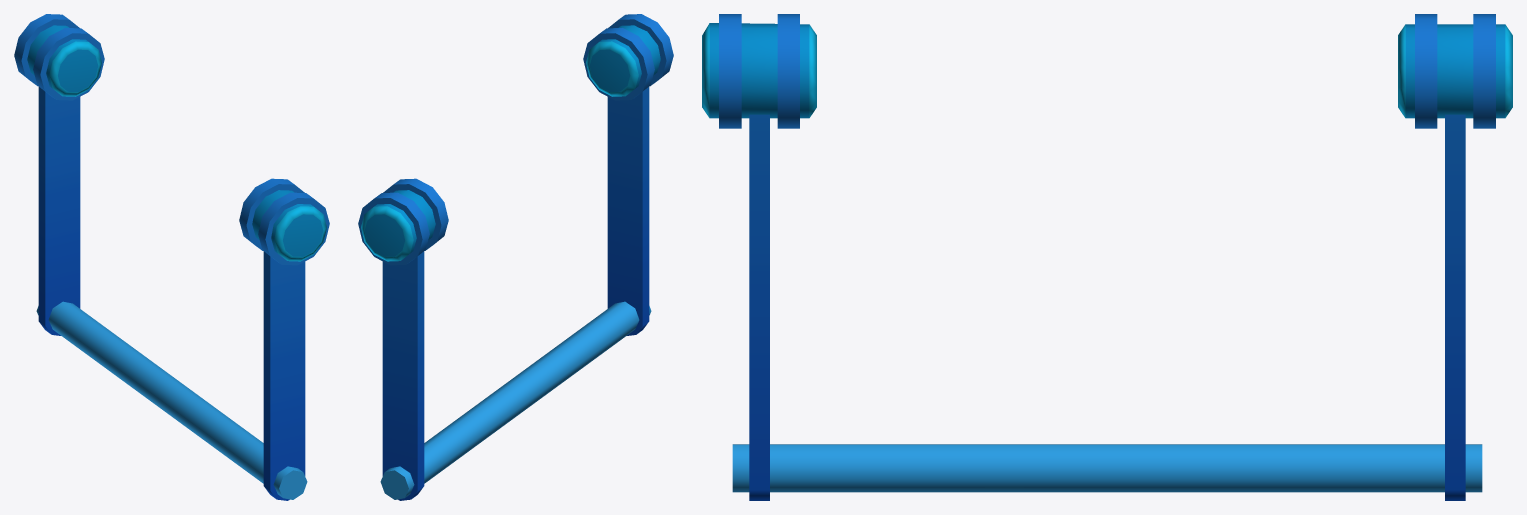
Rendered from obstacle_16_001.fbx.
The picture shows the model from 3 angles, left to right: view 1: azimuth 30°, elevation 25°; view 2: azimuth 150°, elevation 25°; view 3: azimuth 270°, elevation 25°; orthographic projection. The views are drawn at different scales.
Visible parts, largest first — view 1: obstacle_16_001; view 2: obstacle_16_001; view 3: obstacle_16_001.
Part boxes in pixels (bbox=[...]): obstacle_16_001: bbox=[14, 14, 329, 500]; obstacle_16_001: bbox=[358, 14, 673, 500]; obstacle_16_001: bbox=[702, 14, 1512, 500].
Size of the model in its own units: 101 by 708 by 462.
